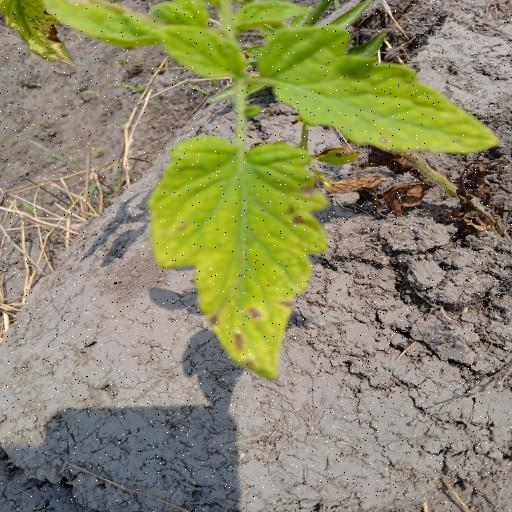Tomato_Brown_Spots: (143, 136, 337, 386), (252, 20, 501, 160)
